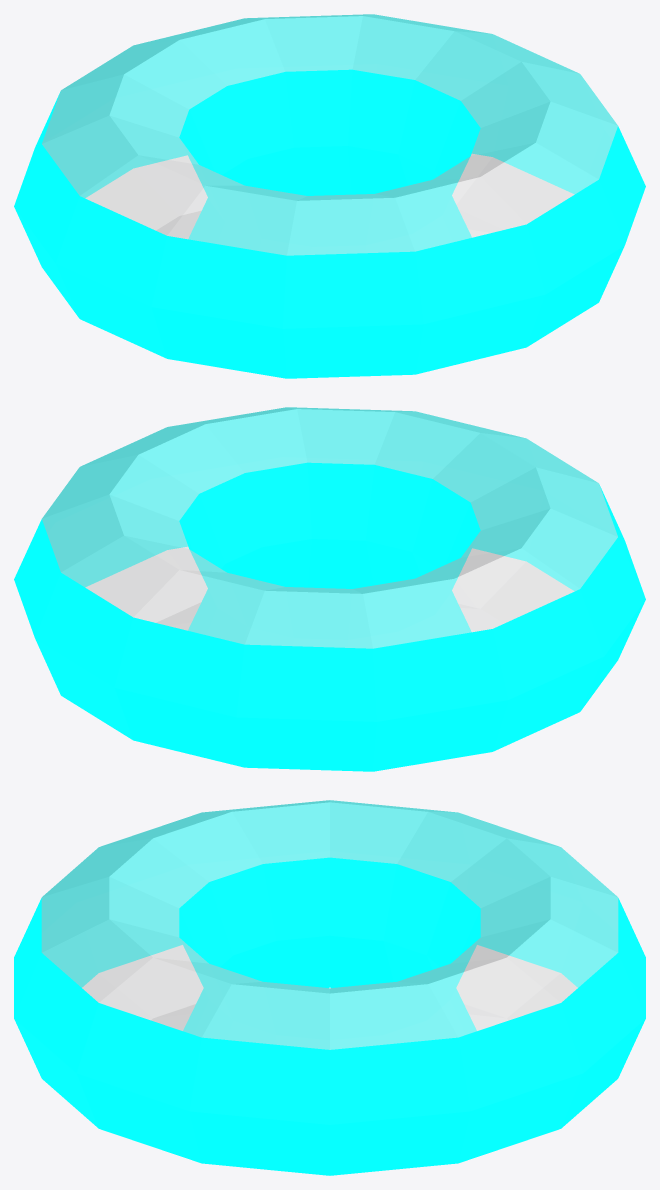
Rendered from (4)M XAirJump.fbx.
3 views of the same model, one above another, from view 1: azimuth 30°, elevation 25°; view 2: azimuth 150°, elevation 25°; view 3: azimuth 270°, elevation 25° (orthographic). The views are drawn at different scales.
Visible parts, largest first — view 1: AirJump.002; view 2: AirJump.002; view 3: AirJump.002.
Boxes of the visible parts, bbox=[...] form: AirJump.002: bbox=[14, 14, 645, 378]; AirJump.002: bbox=[14, 407, 645, 771]; AirJump.002: bbox=[14, 800, 645, 1175].
Bounding box in the file's own units: 157 × 48.2 × 153.
